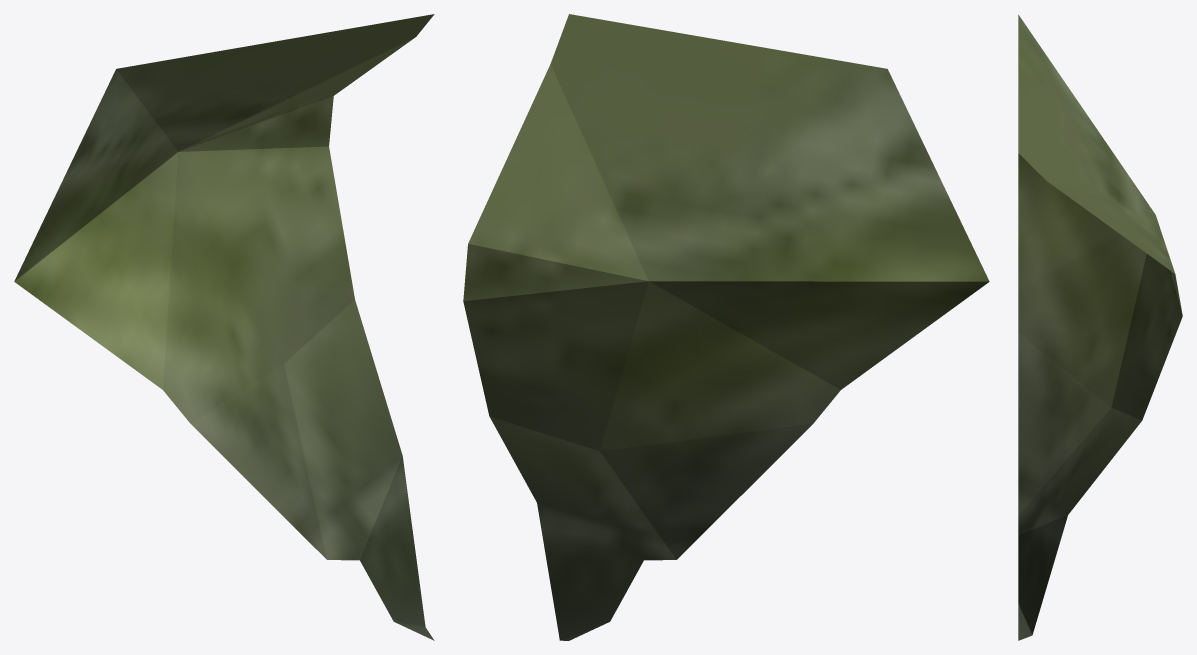
3 views of the same model, side by side, from view 1: azimuth 30°, elevation 25°; view 2: azimuth 150°, elevation 25°; view 3: azimuth 270°, elevation 25° (orthographic). The views are drawn at different scales.
Bounding box in the file's own units: 0.3356 × 0.4954 × 0.1461.
1 material, 1 textured.
